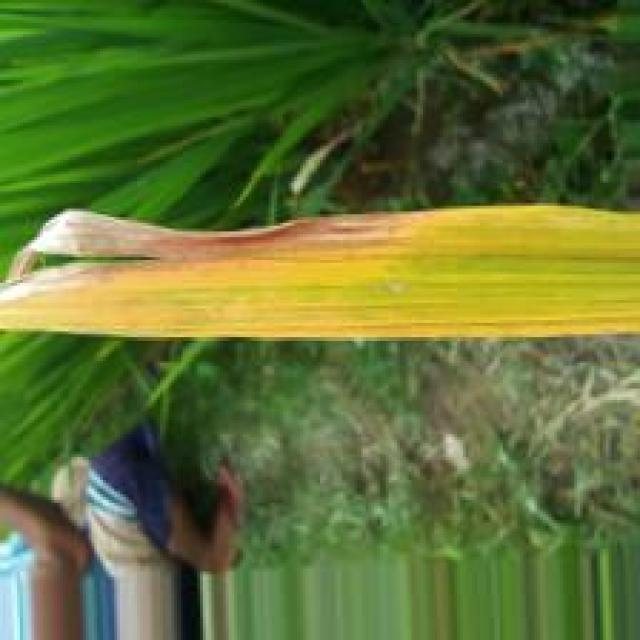Leaf_Scald: (2, 210, 419, 305)
